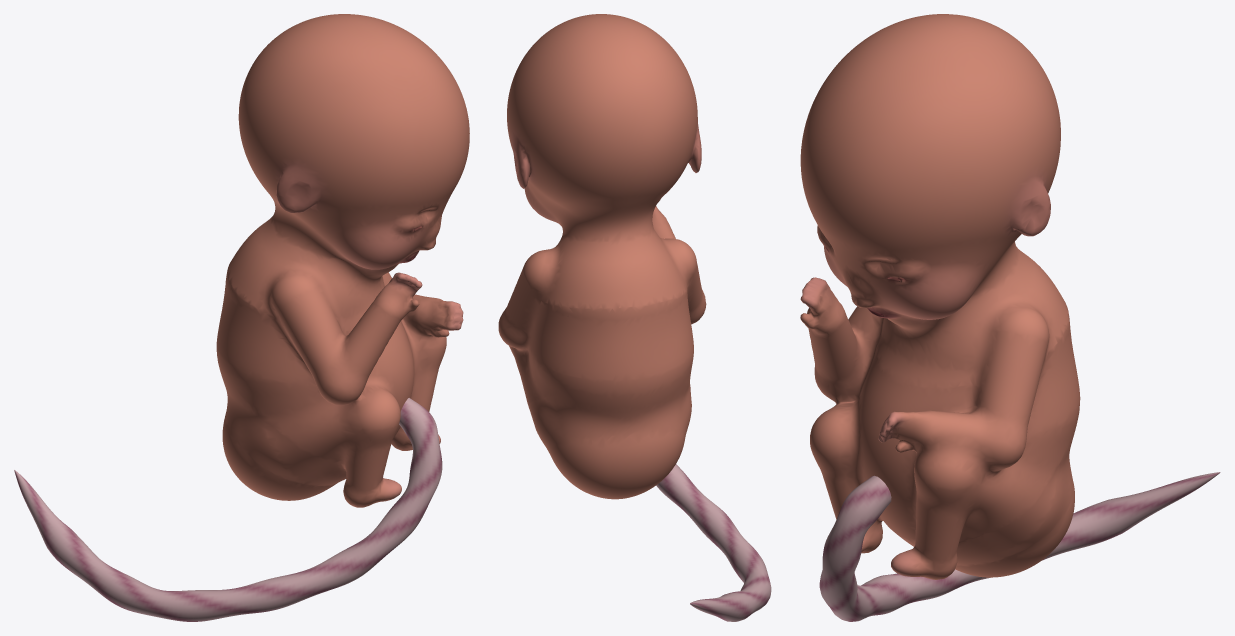
The model's file is week_28.glb.
3 views of the same model, side by side, from view 1: azimuth 30°, elevation 25°; view 2: azimuth 150°, elevation 25°; view 3: azimuth 270°, elevation 25° (orthographic). The views are drawn at different scales.
Parts seen in each view (by area): view 1: skin, cord; view 2: skin, cord; view 3: skin, cord.
Boxes of the visible parts, <box> form: skin: <box>216,14,469,507</box>; cord: <box>14,398,442,621</box>; skin: <box>498,14,706,499</box>; cord: <box>656,464,771,621</box>; skin: <box>800,14,1080,579</box>; cord: <box>819,472,1220,621</box>.
Bounding box in the file's own units: 1.73 × 2.84 × 1.64.
